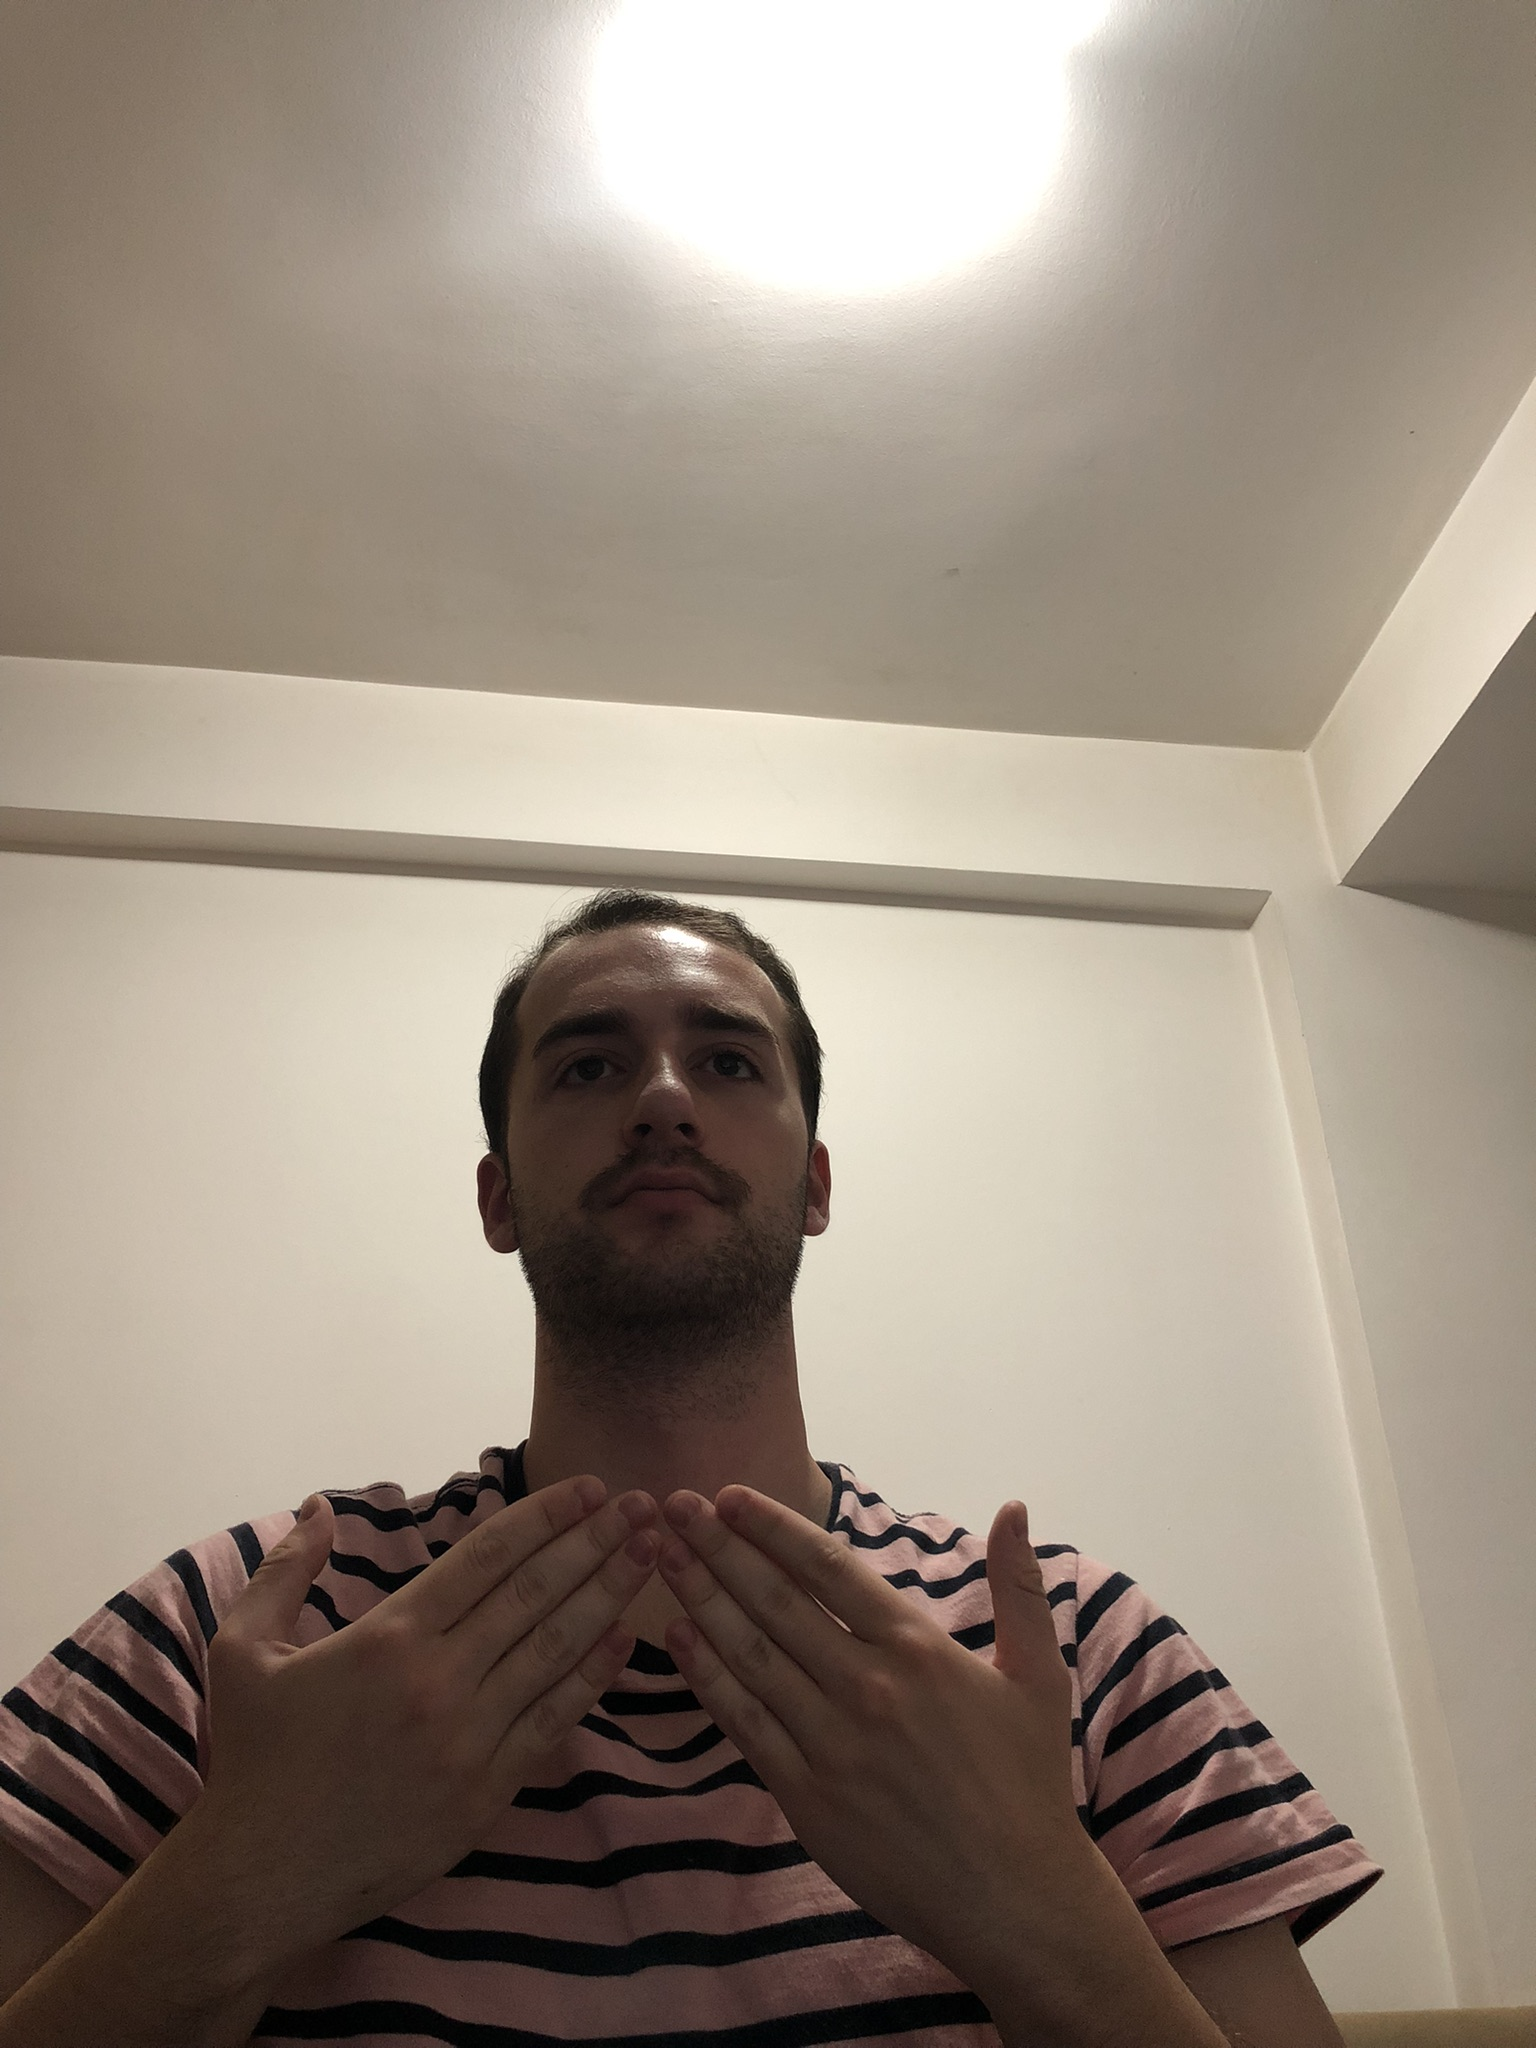Thank You: (198, 1472, 1094, 2004)
